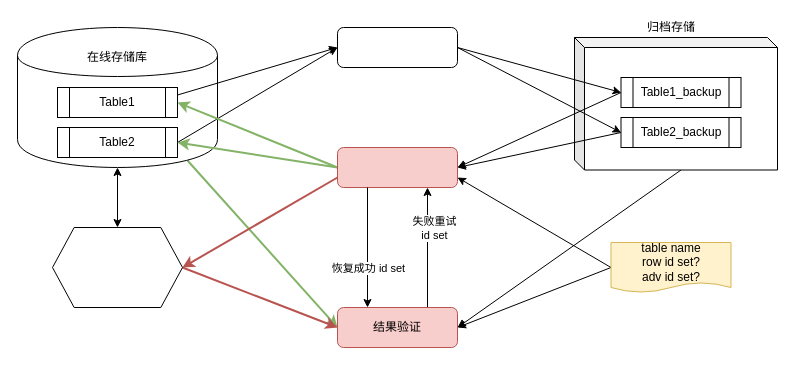
Image size: 795x365. Some labels were removed from this diagram. Here are the shapes that lost their labels. From the top down, the box of each, then its label:
(336, 26, 458, 68): 归档任务
(336, 146, 458, 188): 恢复任务
(52, 226, 182, 308): RPC接口
